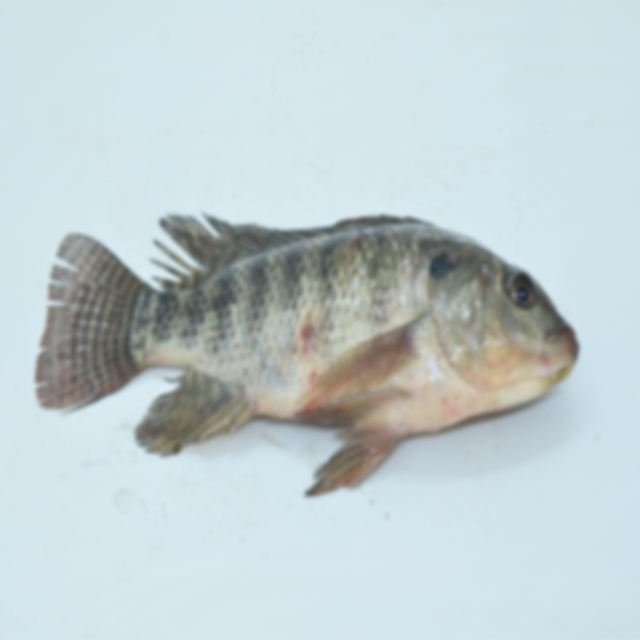Columnaris Disease: (31, 208, 582, 502)
